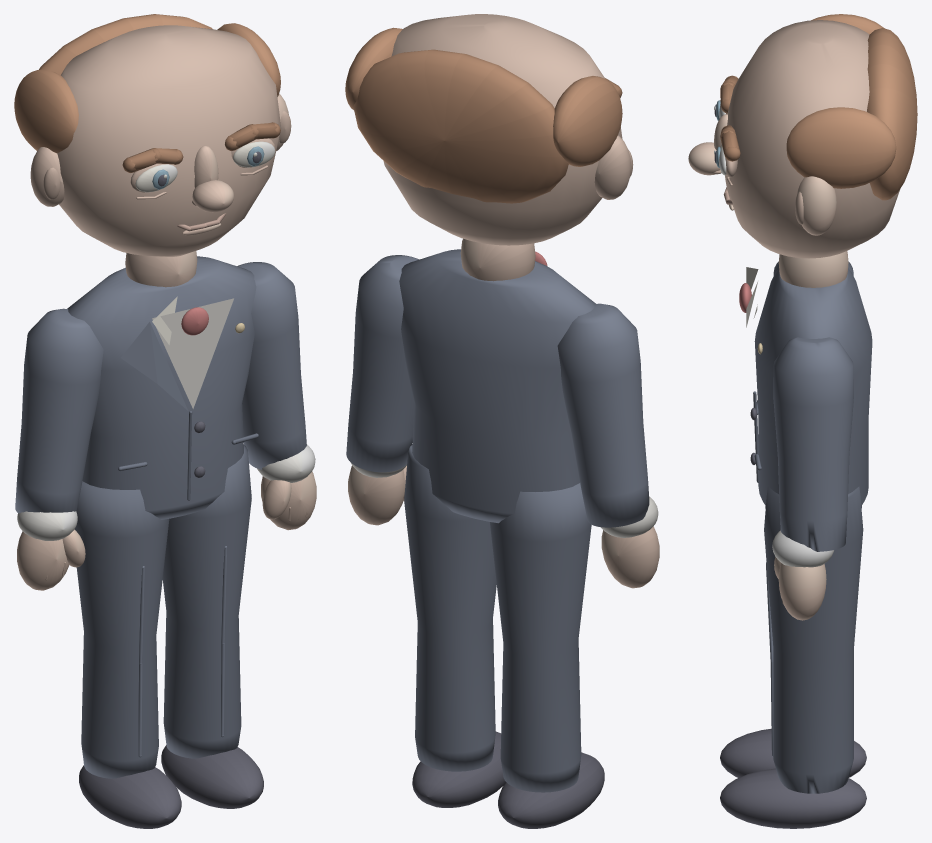
File: neil_kinnock_1990_v1.glb
The picture shows the model from 3 angles, left to right: view 1: azimuth 30°, elevation 25°; view 2: azimuth 150°, elevation 25°; view 3: azimuth 270°, elevation 25°; orthographic projection. The views are drawn at different scales.
Visible parts, largest first — view 1: Neil Kinnock; view 2: Neil Kinnock; view 3: Neil Kinnock.
Boxes of the visible parts, box(x1,y1,x2,y2) form: Neil Kinnock: box(14, 14, 316, 828); Neil Kinnock: box(345, 14, 659, 828); Neil Kinnock: box(688, 14, 917, 828).
Bounding box in the file's own units: 1.86 × 4.58 × 1.25.
